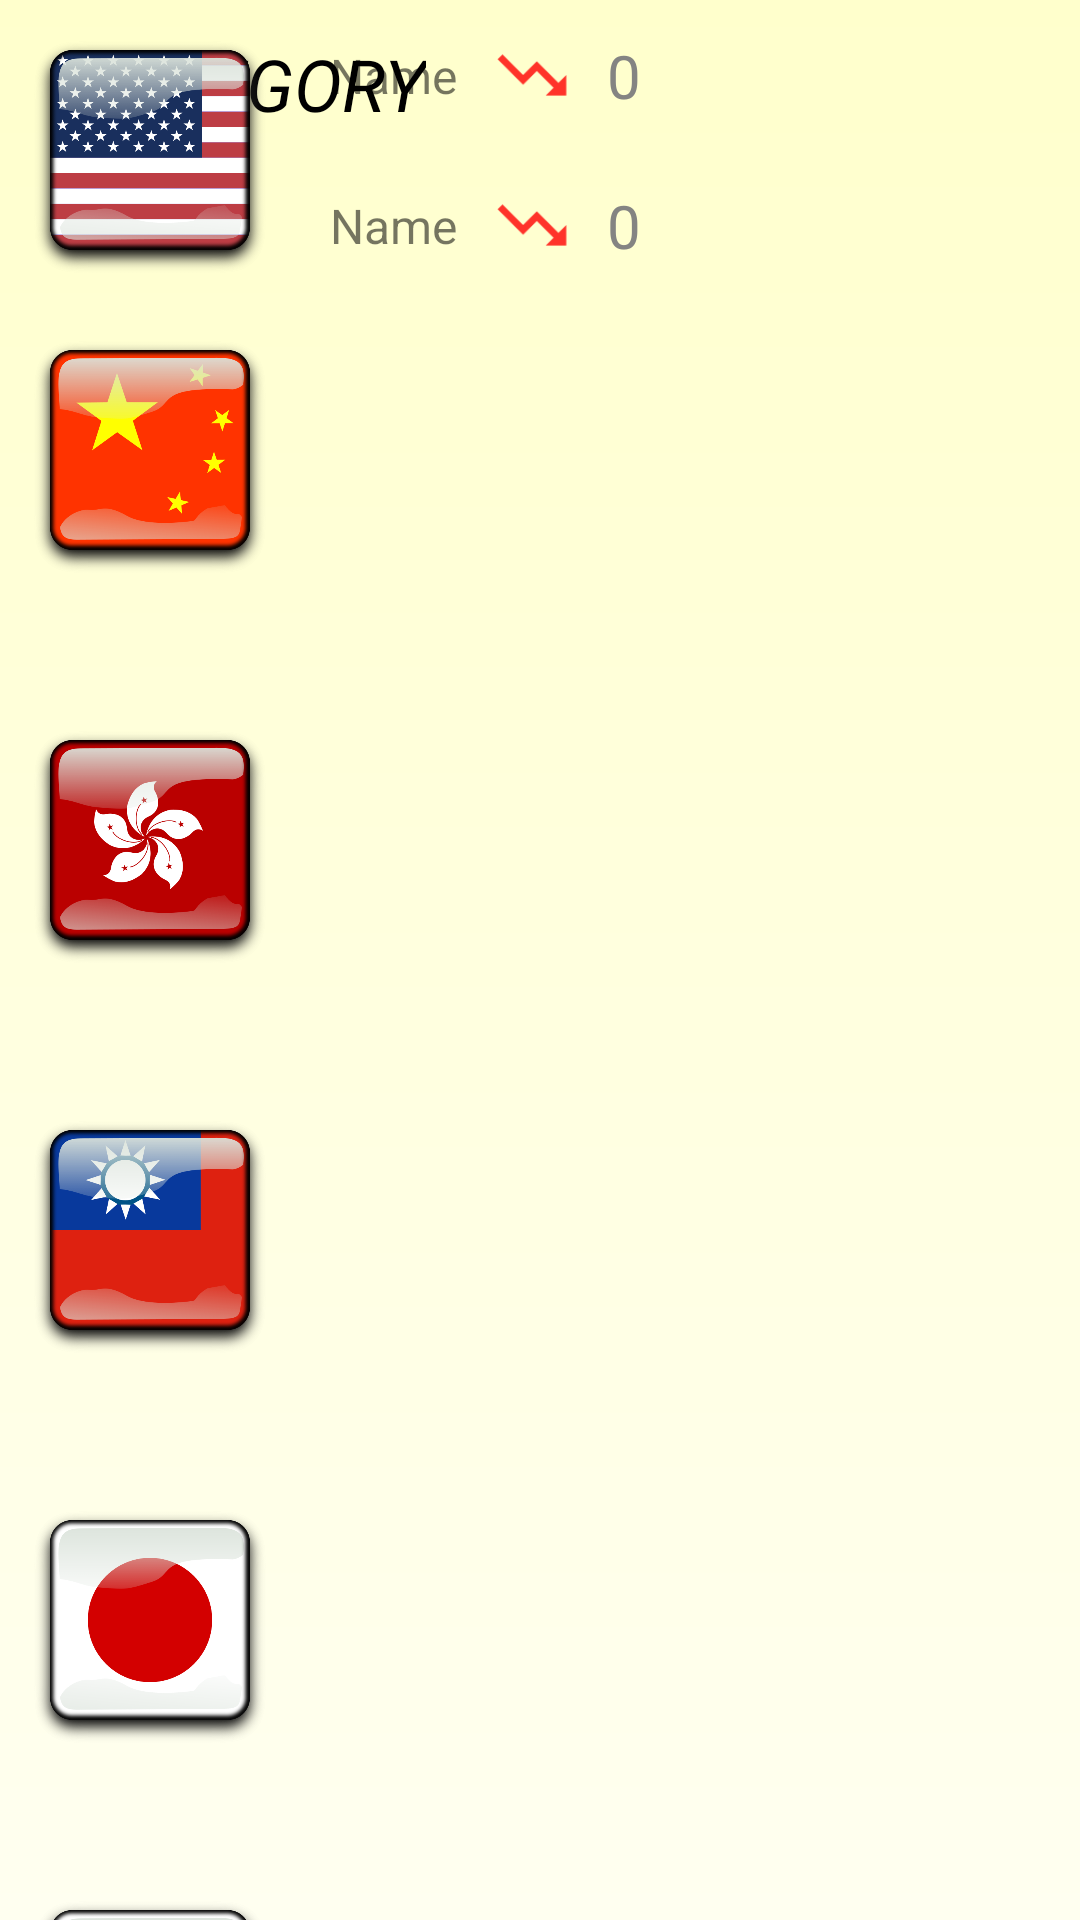

Icon bounding boxes for this 1080x1920 phone screenshot, format (x1, y1, x2, y2):
china: (41, 348, 259, 566)
downtick: (497, 54, 567, 96), (497, 204, 567, 246)
hongkong: (41, 738, 259, 956)
japan: (41, 1518, 259, 1736)
taiwan: (41, 1128, 259, 1346)
usa: (41, 48, 291, 266)
